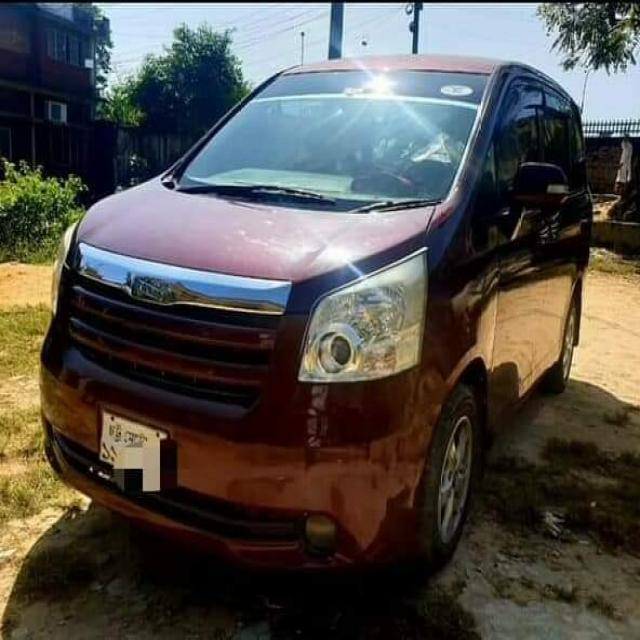maroon: (48, 62, 596, 584)
